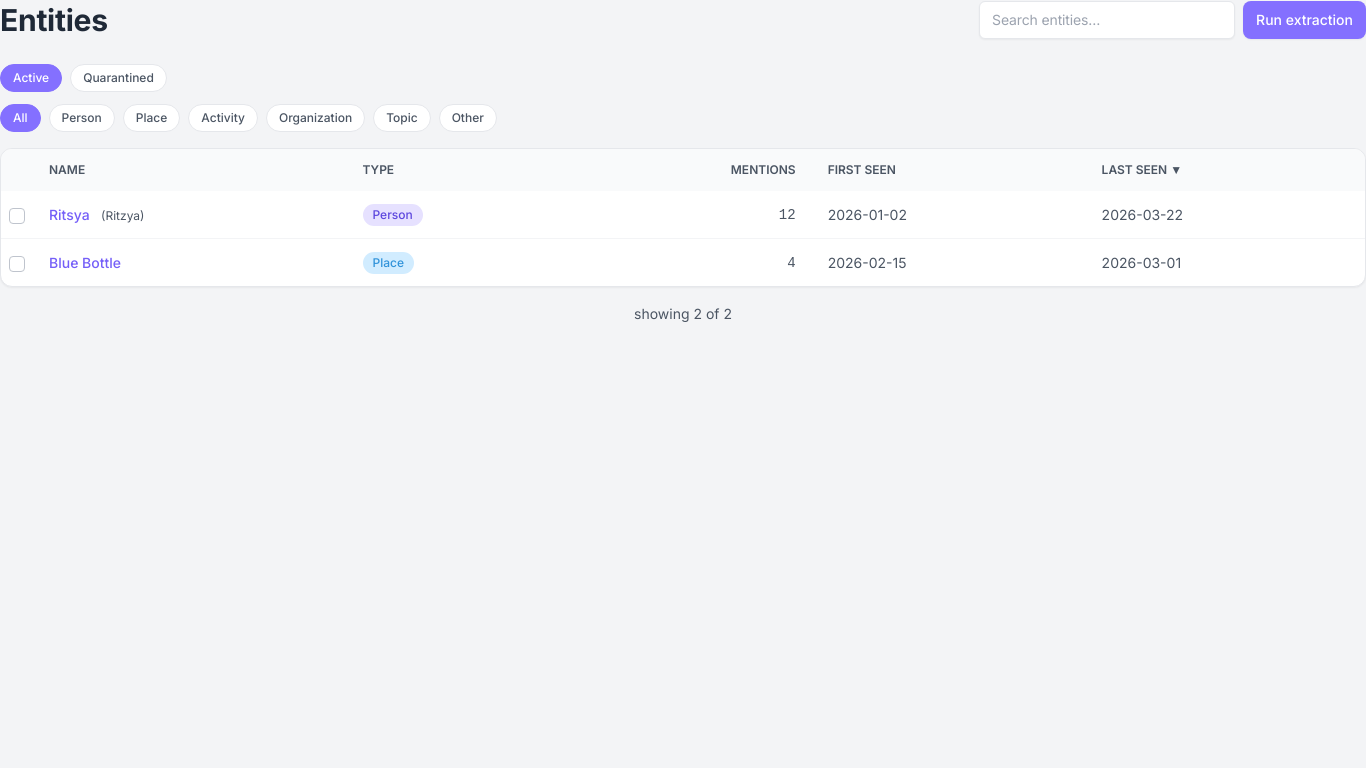
it: EntityListView › merge modal flow › cancel closes the merge modal without merging
# Select both and open merge modal
Click the checkbox with test id "entity-checkbox" next to "Ritsya" at (17, 216), box [9,208,25,224]
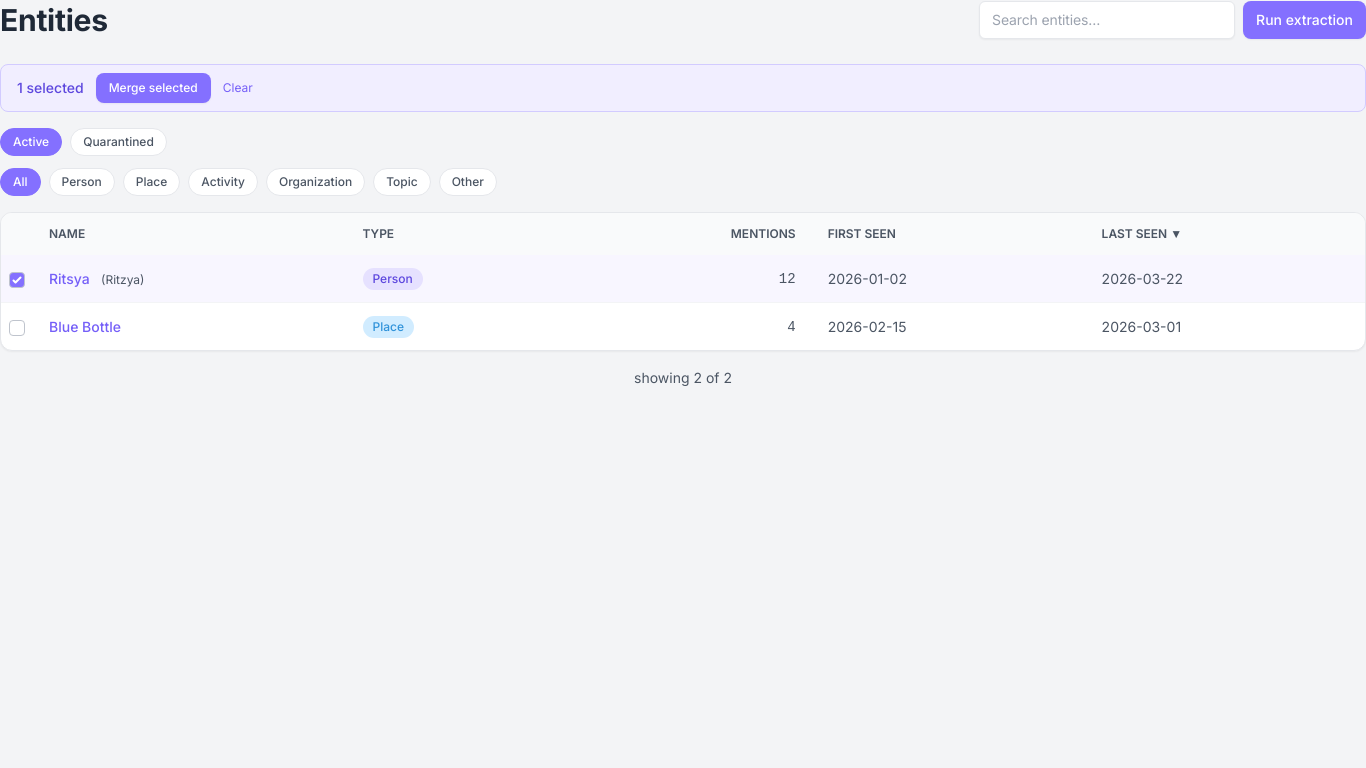
Click the checkbox with test id "entity-checkbox" next to "Blue Bottle" at (17, 328), box [9,320,25,336]
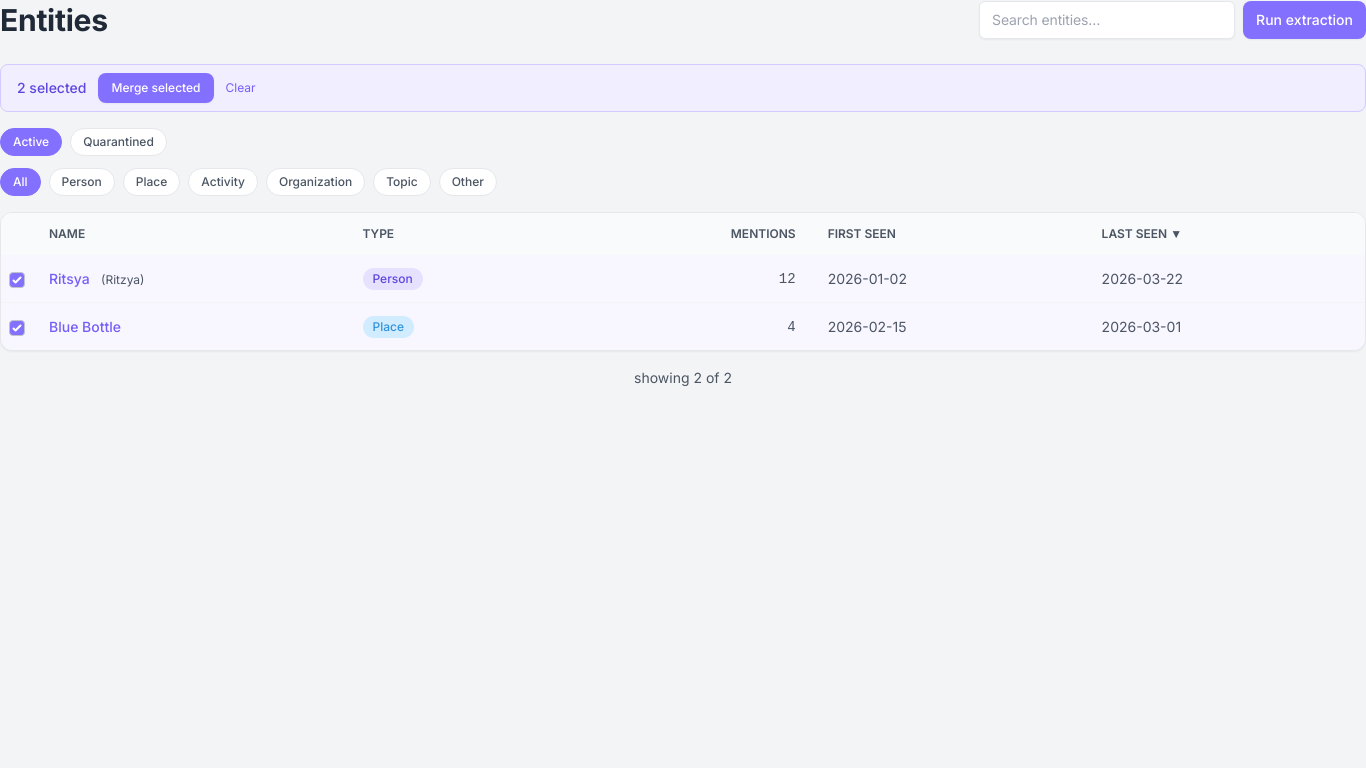
Click the button with test id "merge-button" at (156, 88), box [98,73,214,103]
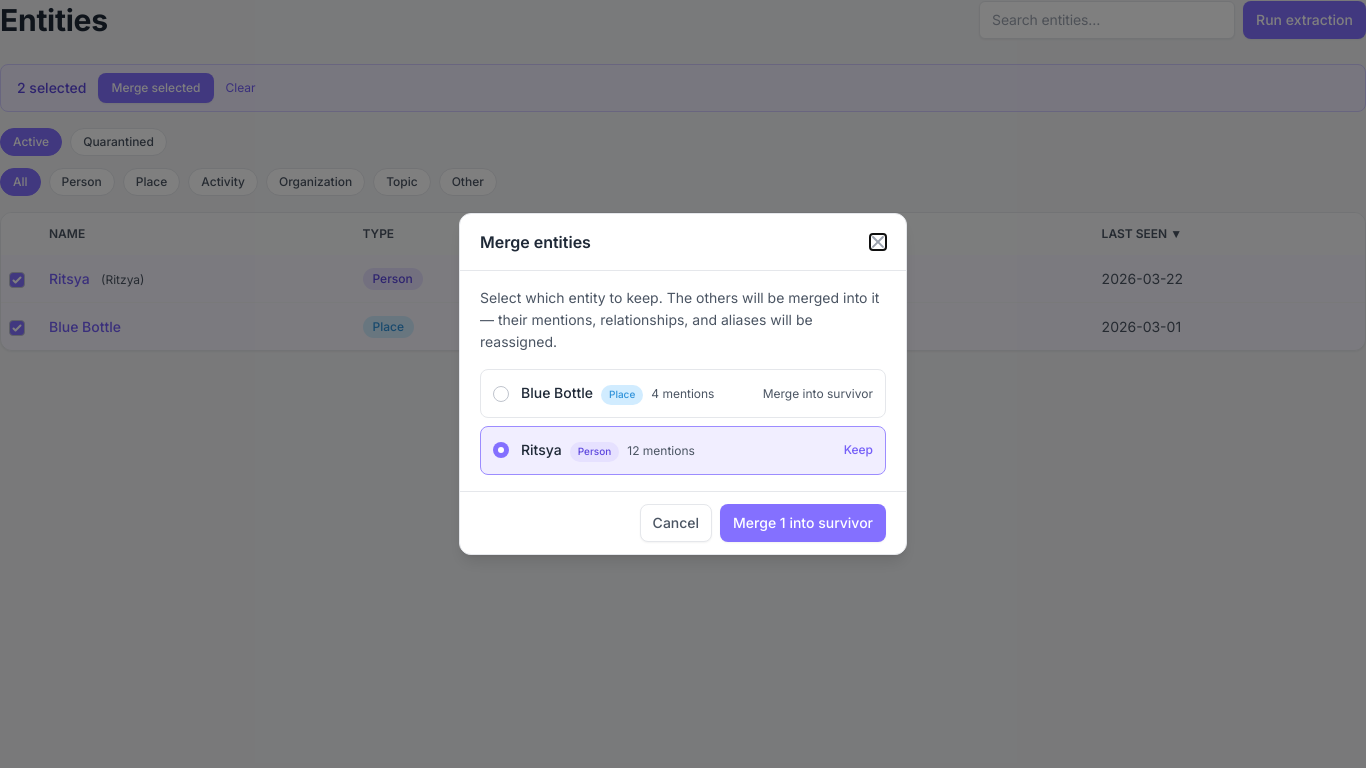
Expected: the dialog with test id "modal-panel" is shown, [459,213,907,555]
# Cancel is the first button in the footer, confirm is the second
Click the button "Cancel" at (676, 523), box [640,504,712,542]
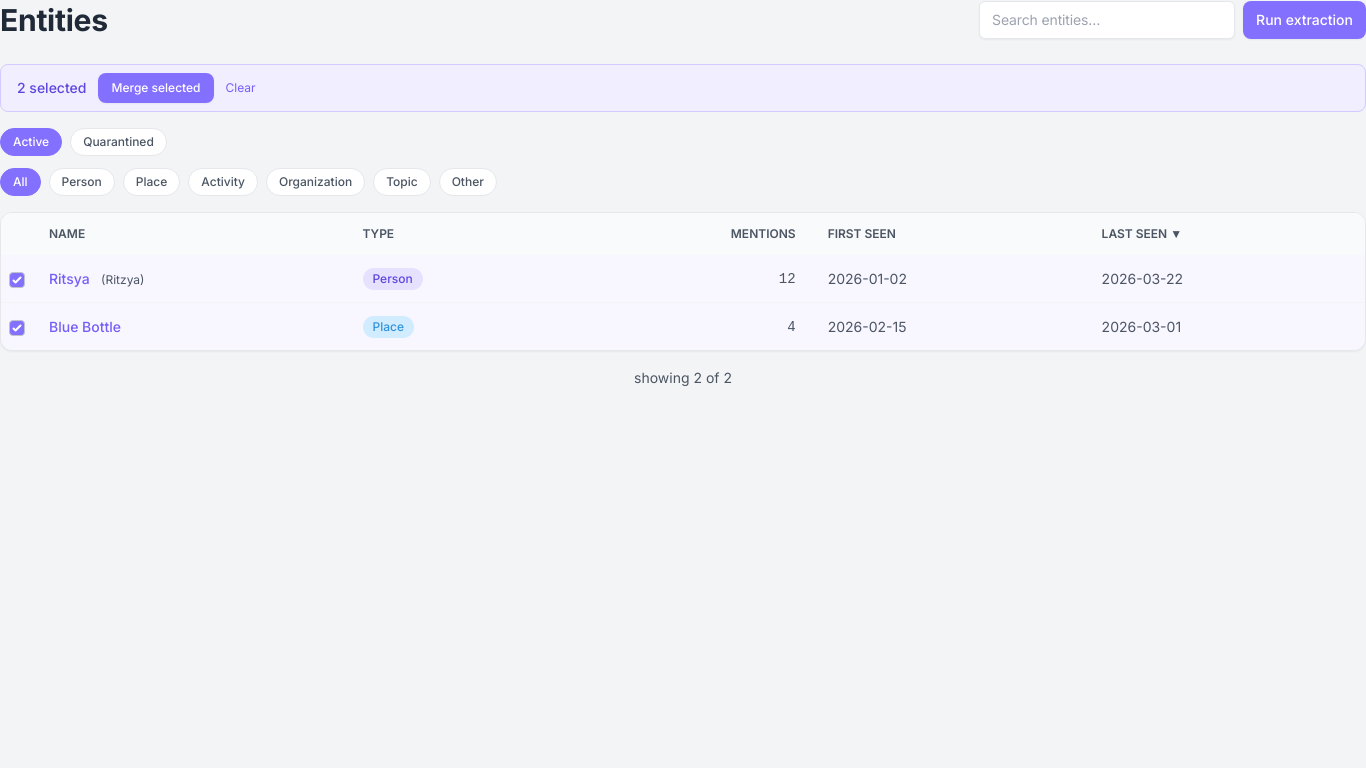
Expected: the dialog with test id "modal-panel" is gone
